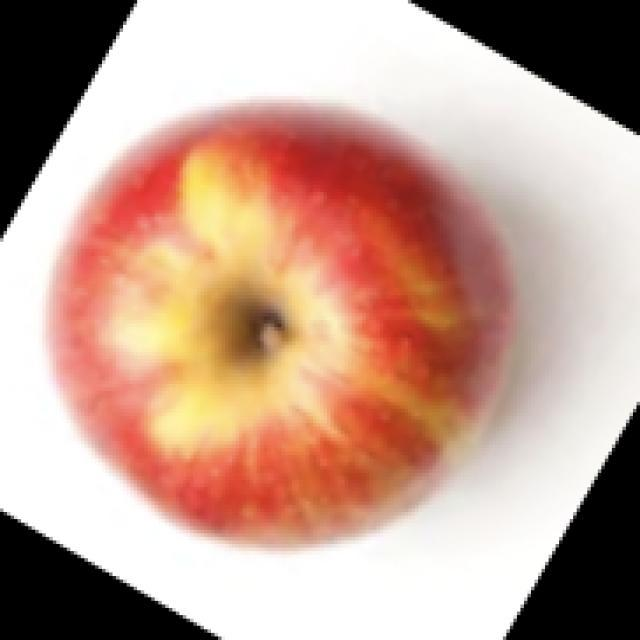Fresh Apple: (57, 91, 518, 542)
